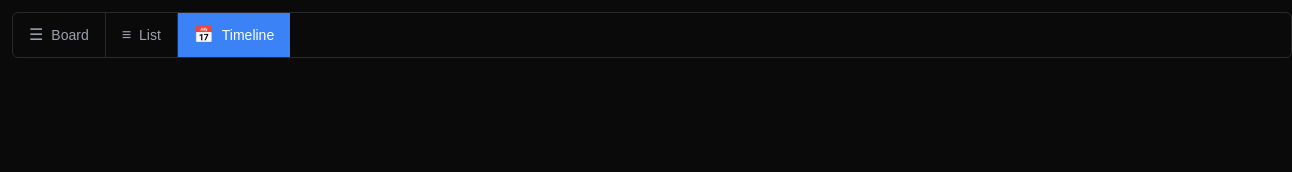
ViewSwitcher › view switching › should switch to list view on click
Click the tab "≡ List". click: (142, 35)
box: x1=106 y1=13 x2=178 y2=57
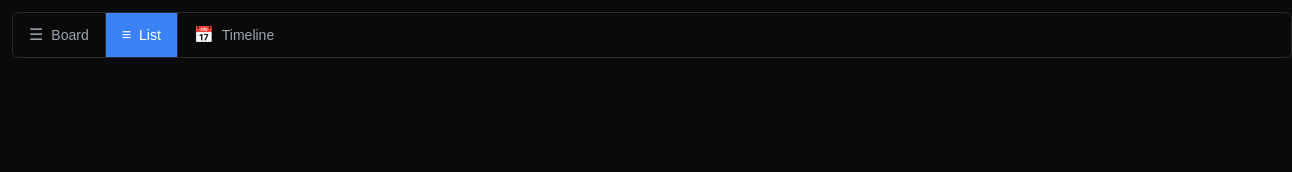
Check: the tab "≡ List" is selected, box x1=106 y1=13 x2=178 y2=57
Check: the tab "≡ List" has class "active", box x1=106 y1=13 x2=178 y2=57
